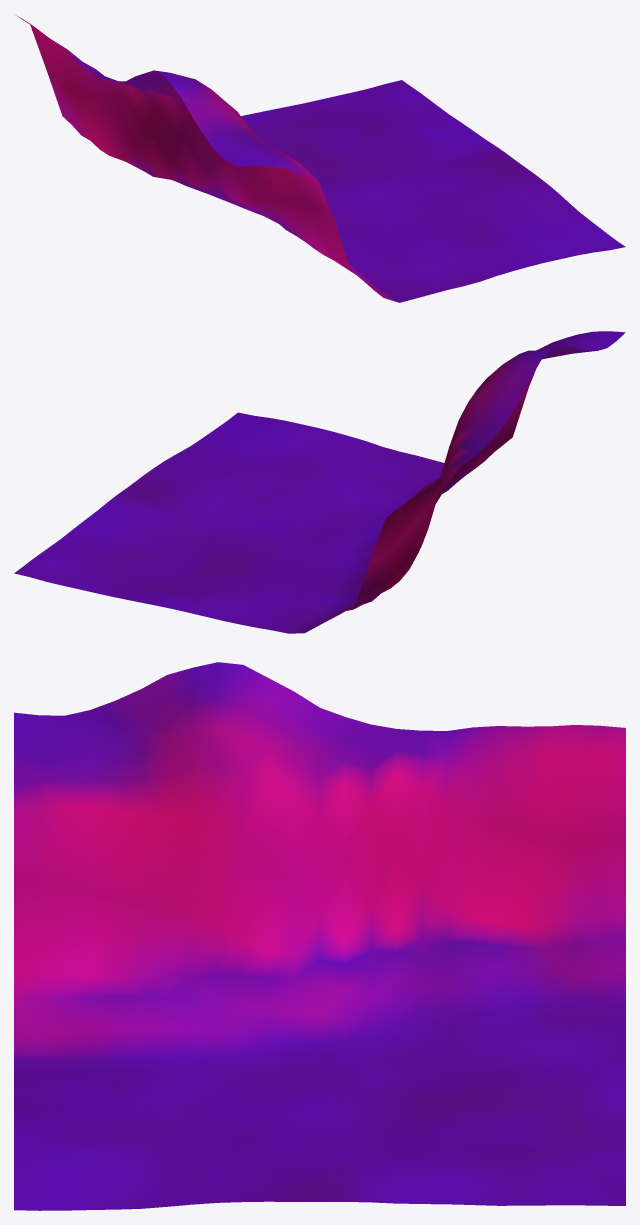
Rendered from ground_40.glb.
The picture shows the model from 3 angles, top to bottom: view 1: azimuth 30°, elevation 25°; view 2: azimuth 150°, elevation 25°; view 3: azimuth 270°, elevation 25°; orthographic projection. The views are drawn at different scales.
Parts seen in each view (by area): view 1: Ground_40; view 2: Ground_40; view 3: Ground_40.
Part boxes in pixels (box(x1,y1,x2,y2)): Ground_40: box(16, 15, 625, 302); Ground_40: box(14, 331, 625, 633); Ground_40: box(14, 662, 625, 1210).
Size of what is drawn, in the model's own units: 24 by 12.59 by 24.
